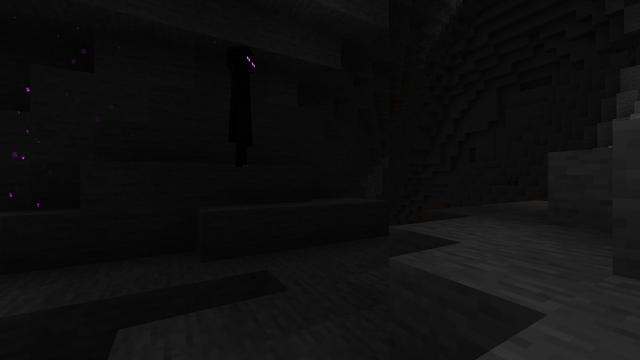endermens: (226, 38, 256, 164)
